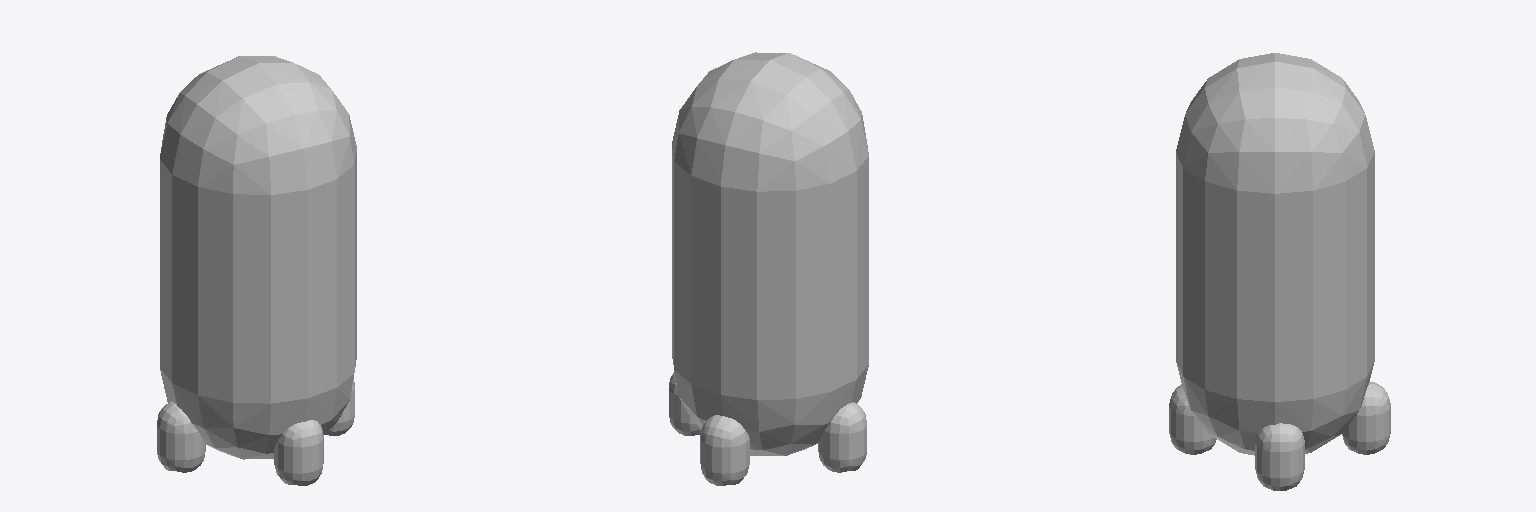
The model's file is rocket.obj.
3 views of the same model, side by side, from view 1: azimuth 30°, elevation 25°; view 2: azimuth 150°, elevation 25°; view 3: azimuth 270°, elevation 25° (orthographic).
Parts seen in each view (by area): view 1: Cube; view 2: Cube; view 3: Cube.
Boxes of the visible parts, x1=… form: Cube: x1=157, y1=56, x2=356, y2=485; Cube: x1=669, y1=52, x2=868, y2=485; Cube: x1=1169, y1=53, x2=1390, y2=490.
Size of the model in its own units: 3.87 by 7.46 by 3.87.